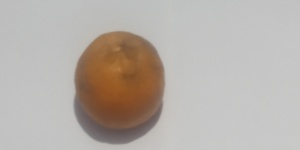BAD: (75, 28, 168, 131)
